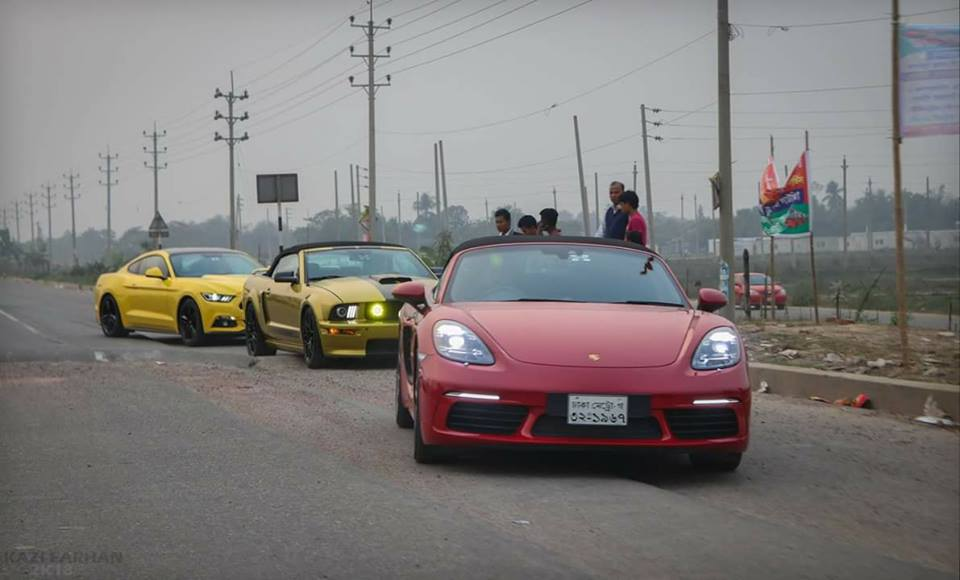registration_plate: (567, 394, 628, 426)
